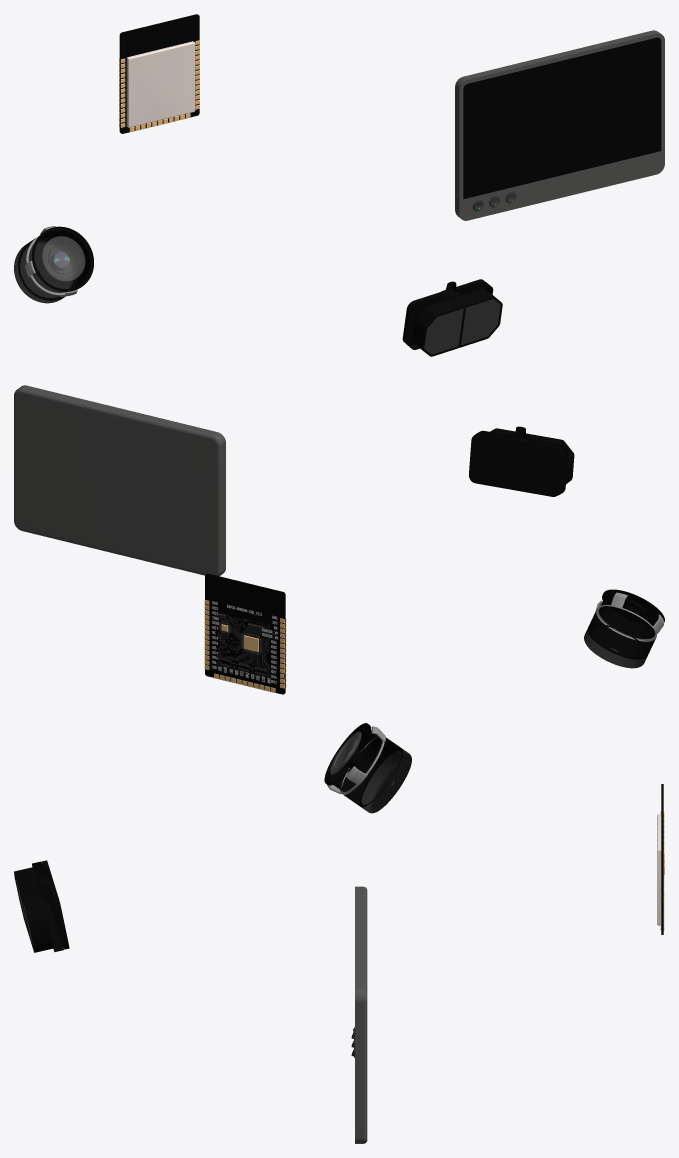
File: carItems.glb
3 renders of one model, top to bottom at view 1: azimuth 30°, elevation 25°; view 2: azimuth 150°, elevation 25°; view 3: azimuth 270°, elevation 25°, orthographic. The views are drawn at different scales.
Visible parts, largest first — view 1: display_module, lidar_module, chip.001, camera_module, esp32_module, glass.002, chip.012; view 2: display_module, lidar_module, esp_face, camera_module, esp32_module, chip.012; view 3: camera_module, display_module, lidar_module.
Part boxes in pixels (left/top/right/bottom): display_module: left=455, top=30, right=664, bottom=220; lidar_module: left=402, top=279, right=502, bottom=356; chip.001: left=126, top=41, right=195, bottom=127; camera_module: left=14, top=226, right=93, bottom=303; esp32_module: left=119, top=14, right=199, bottom=133; glass.002: left=42, top=236, right=85, bottom=281; chip.012: left=119, top=40, right=199, bottom=132; display_module: left=14, top=385, right=225, bottom=576; lidar_module: left=469, top=428, right=574, bottom=496; esp_face: left=210, top=591, right=279, bottom=687; camera_module: left=584, top=589, right=664, bottom=668; esp32_module: left=205, top=573, right=285, bottom=694; chip.012: left=204, top=600, right=286, bottom=692; camera_module: left=324, top=723, right=411, bottom=813; display_module: left=355, top=886, right=367, bottom=1143; lidar_module: left=14, top=860, right=69, bottom=952.
Size of what is drawn, in the model's own units: 10.3 by 2.18 by 8.32.
Materials: 18 (2 with a texture image).
